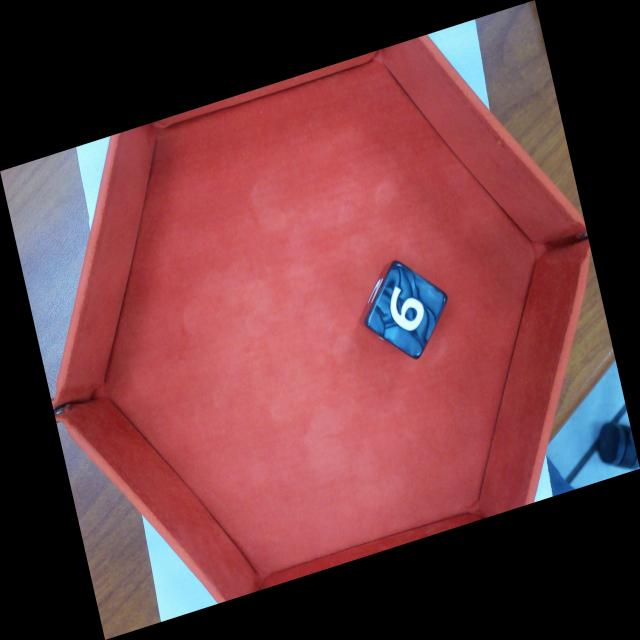dice: (364, 258, 450, 363)
